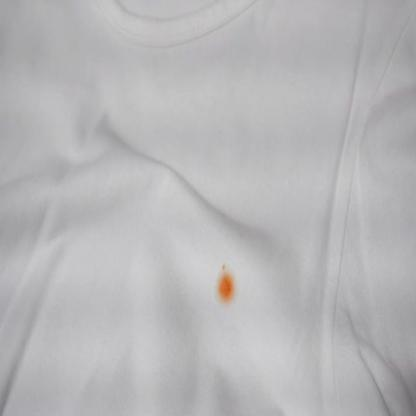kimchi: (211, 260, 237, 306)
